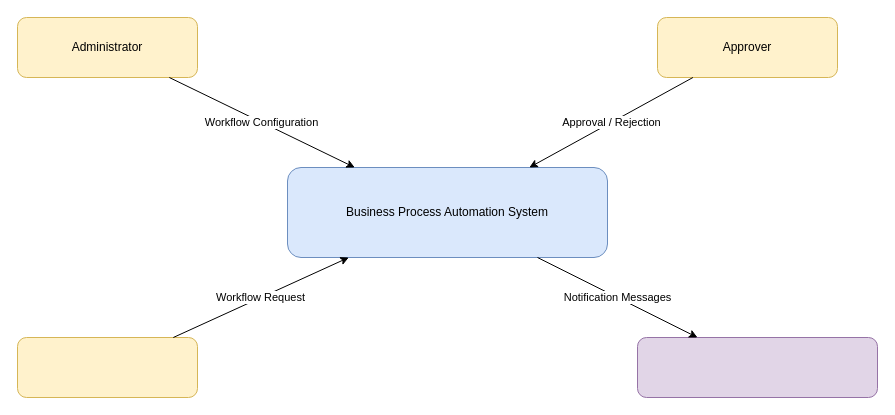
Image size: 895x415. Some labels were removed from this diagram. Here are the shapes that lost their labels. From the top down, the box of each, then its label:
(16, 336, 198, 398): User
(636, 336, 878, 398): Email / Notification Service
